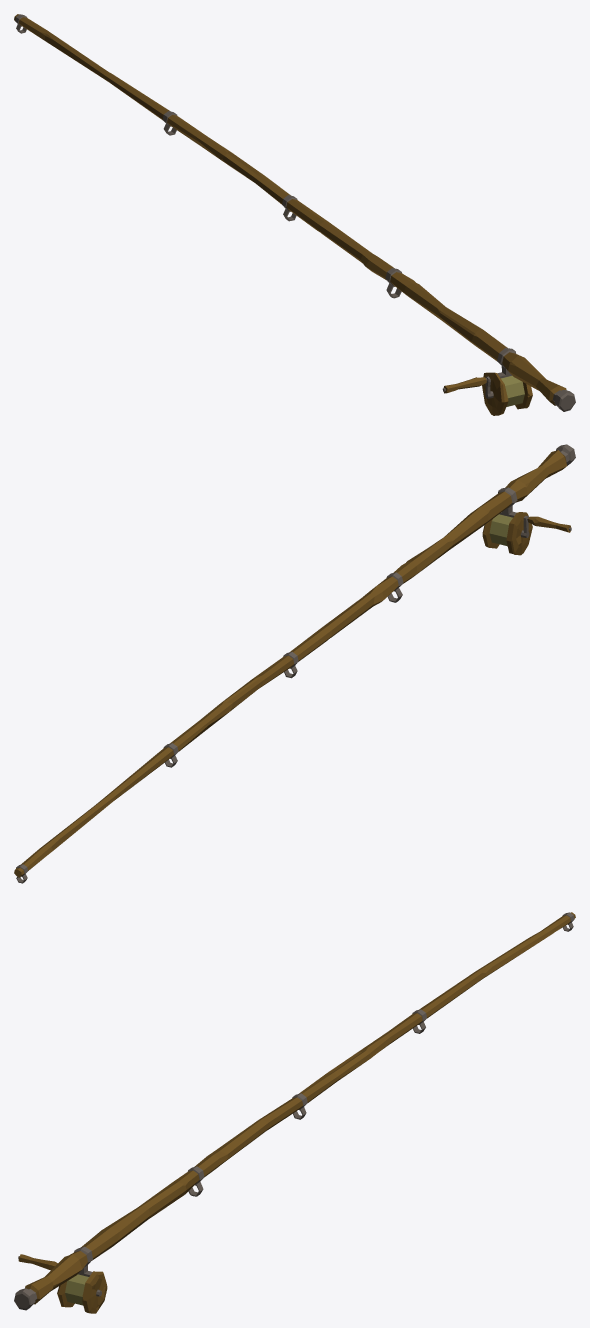
Rendered from fishing_rod_highlight.glb.
The picture shows the model from 3 angles, top to bottom: view 1: azimuth 30°, elevation 25°; view 2: azimuth 150°, elevation 25°; view 3: azimuth 330°, elevation 25°; orthographic projection.
Parts seen in each view (by area): view 1: FishingRodHighLight; view 2: FishingRodHighLight; view 3: FishingRodHighLight.
Part boxes in pixels (box(x1,y1,x2,y2)): FishingRodHighLight: box(14, 14, 575, 415); FishingRodHighLight: box(14, 444, 575, 883); FishingRodHighLight: box(14, 912, 575, 1313).
Size of the model in its own units: 0.1577 by 0.118 by 1.84.
